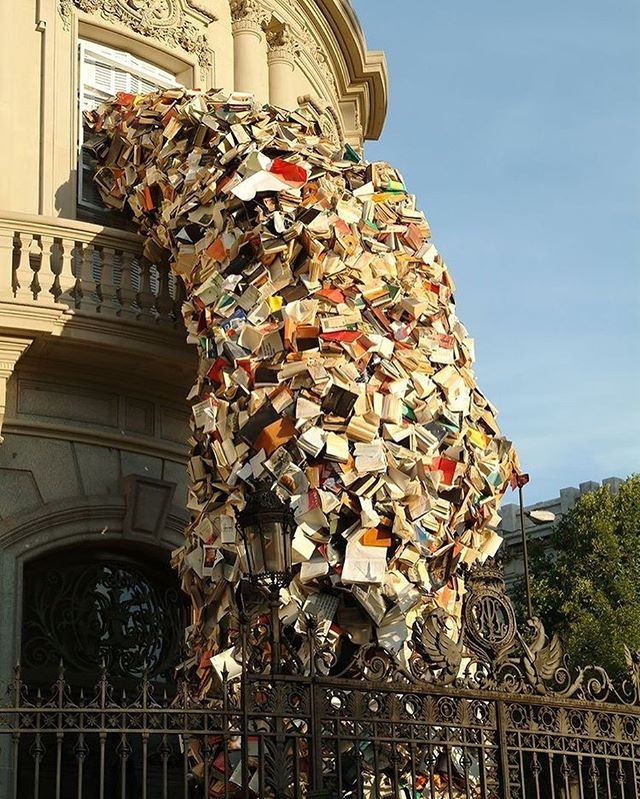building: (1, 1, 403, 778)
sky: (401, 1, 634, 453)
tree: (507, 452, 640, 704)
